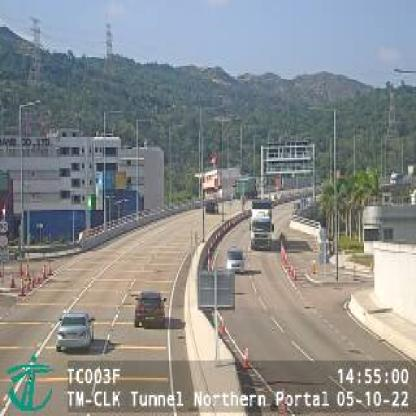Car: (53, 310, 95, 347), (133, 290, 165, 324), (224, 246, 244, 272)
Truck: (248, 200, 272, 252)
